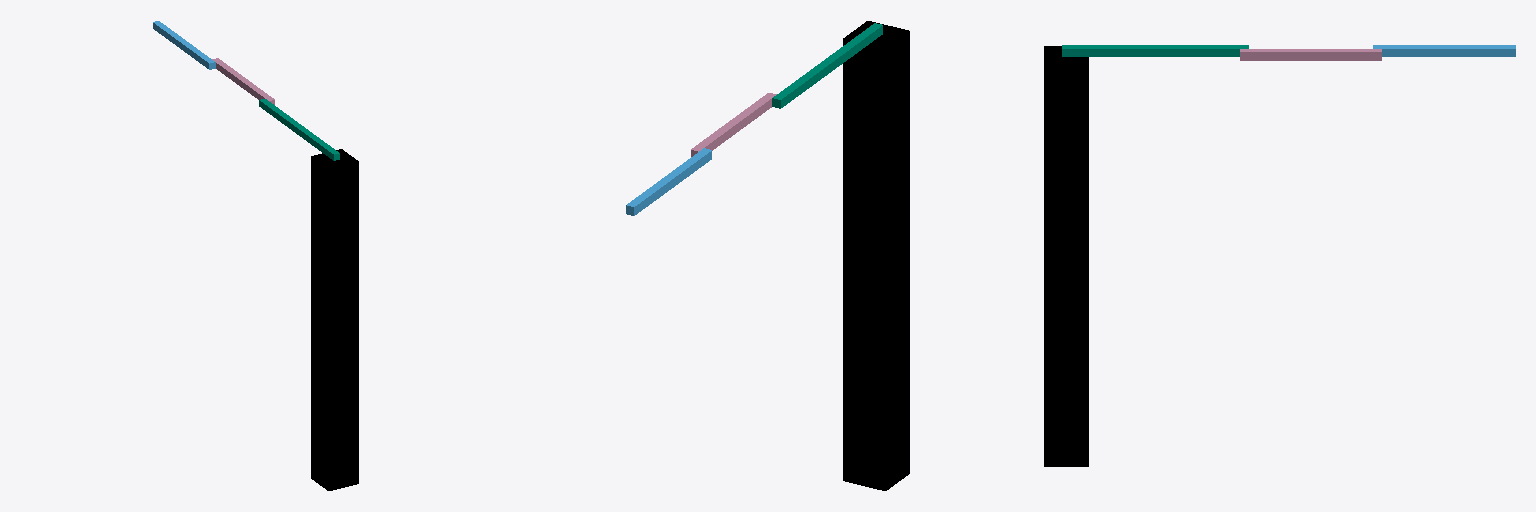
The robot description file, URDF, robot "rrr_robot":
<robot name="rrr_robot">
  <link name="basis">
    <inertial>
      <origin xyz="0 0 0.5" rpy="0 0 0"/>
      <mass value="1"/>
      <inertia ixx="1"  ixy="0"  ixz="0" iyy="1" iyz="0" izz="100" />
    </inertial>
    <visual>
      <origin xyz="0 0 0.5" rpy="0 0 0" />
      <geometry>
        <box size="0.1 0.1 1" />
      </geometry>
      <material name="black">
        <color rgba="0 0 0 1.0"/>
      </material>
    </visual>
    <collision>
      <origin xyz="0 0 0.5" rpy="0 0 0"/>
      <geometry>
        <box size="0.1 0.1 1" />
      </geometry>
    </collision>
  </link>
  <link name="body1">
    <inertial>
      <origin xyz="0 0.2 0" rpy="0 0 0"/>
      <mass value="0.5"/>
      <inertia ixx="25"  ixy="0"  ixz="0" iyy="1" iyz="0" izz="1" />
    </inertial>
    <visual>
      <origin xyz="0 0.2 0" rpy="0 0 0" />
      <geometry>
        <box size="0.02 0.42 0.02" />
      </geometry>
      <material name="blueishgreen">
        <color rgba="0 0.6 0.5 1.0"/>
      </material>
    </visual>
    <collision>
      <origin xyz="0 0.2 0" rpy="0 0 0"/>
      <geometry>
        <box size="0.02 0.42 0.02" />
      </geometry>
    </collision>
  </link>
  <link name="body2">
    <inertial>
      <origin xyz="0 0.15 0" rpy="0 0 0"/>
      <mass value="0.5"/>
      <inertia ixx="1"  ixy="0"  ixz="0" iyy="10" iyz="0" izz="1" />
    </inertial>
    <visual>
      <origin xyz="0 0.15 0" rpy="0 0 0" />
      <geometry>
        <box size="0.02 0.32 0.02" />
      </geometry>
      <material name="reddishpurple">
        <color rgba="0.8 0.6 0.7 1.0"/>
      </material>
    </visual>
    <collision>
      <origin xyz="0 0.15 0" rpy="0 0 0"/>
      <geometry>
        <box size="0.02 0.32 0.02" />
      </geometry>
    </collision>
  </link>
  <link name="body3">
    <inertial>
      <origin xyz="0 0.15 0" rpy="0 0 0"/>
      <mass value="0.5"/>
      <inertia ixx="1"  ixy="0"  ixz="0" iyy="10" iyz="0" izz="1" />
    </inertial>
    <visual>
      <origin xyz="0 0.15 0" rpy="0 0 0" />
      <geometry>
        <box size="0.02 0.32 0.02" />
      </geometry>
      <material name="skyblue">
        <color rgba="0.35 0.7 0.9 1.0"/>
      </material>
    </visual>
    <collision>
      <origin xyz="0 0.15 0" rpy="0 0 0"/>
      <geometry>
        <box size="0.02 0.32 0.02" />
      </geometry>
    </collision>
  </link>
  <joint name="dof1" type="continuous">
    <origin xyz="0 0 1.01" rpy="0 0 0"/>
    <parent link="basis" />
    <child link="body1" />
    <axis xyz="0 0 1" />
  </joint>
  <joint name="dof2" type="continuous">
    <origin xyz="0.02 0.4 0" rpy="0 0 0"/>
    <parent link="body1" />
    <child link="body2" />
    <axis xyz="1 0 0" />
  </joint>
  <joint name="dof3" type="continuous">
    <origin xyz="-0.02 0.3 0" rpy="0 0 0"/>
    <parent link="body2" />
    <child link="body3" />
    <axis xyz="1 0 0" />
  </joint>
</robot>

--- Facts derived from the render (not from the file) ---
Views: 3 orthographic renders of the robot side by side, from view 1: azimuth 30°, elevation 25°; view 2: azimuth 150°, elevation 25°; view 3: azimuth 270°, elevation 25°.
Robot: rrr_robot — 4 links, 3 joints (3 continuous); root link basis; default pose: every joint at zero.
Links seen in each view (by area): view 1: basis, body1, body3, body2; view 2: basis, body1, body3, body2; view 3: basis, body1, body2, body3.
Boxes of the visible links, x1,y1,x2,y2 form: basis: [311, 149, 358, 490]; body1: [259, 99, 339, 160]; body3: [153, 21, 215, 69]; body2: [212, 58, 274, 104]; basis: [843, 21, 909, 490]; body1: [772, 23, 882, 108]; body3: [626, 148, 711, 215]; body2: [691, 93, 776, 156]; basis: [1044, 46, 1088, 466]; body1: [1062, 45, 1248, 56]; body2: [1240, 49, 1381, 60]; body3: [1373, 45, 1515, 56].
Bounding box of the posed robot: 0.1 × 1.06 × 1.02 m (x, y, z).
Geometry: primitives only (box / cylinder / sphere), no mesh files.